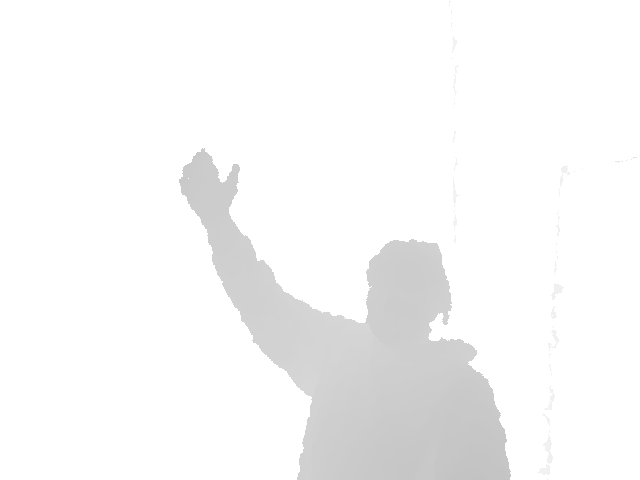hand: (179, 148, 241, 213)
head: (366, 240, 452, 341)
person: (179, 148, 513, 480)
